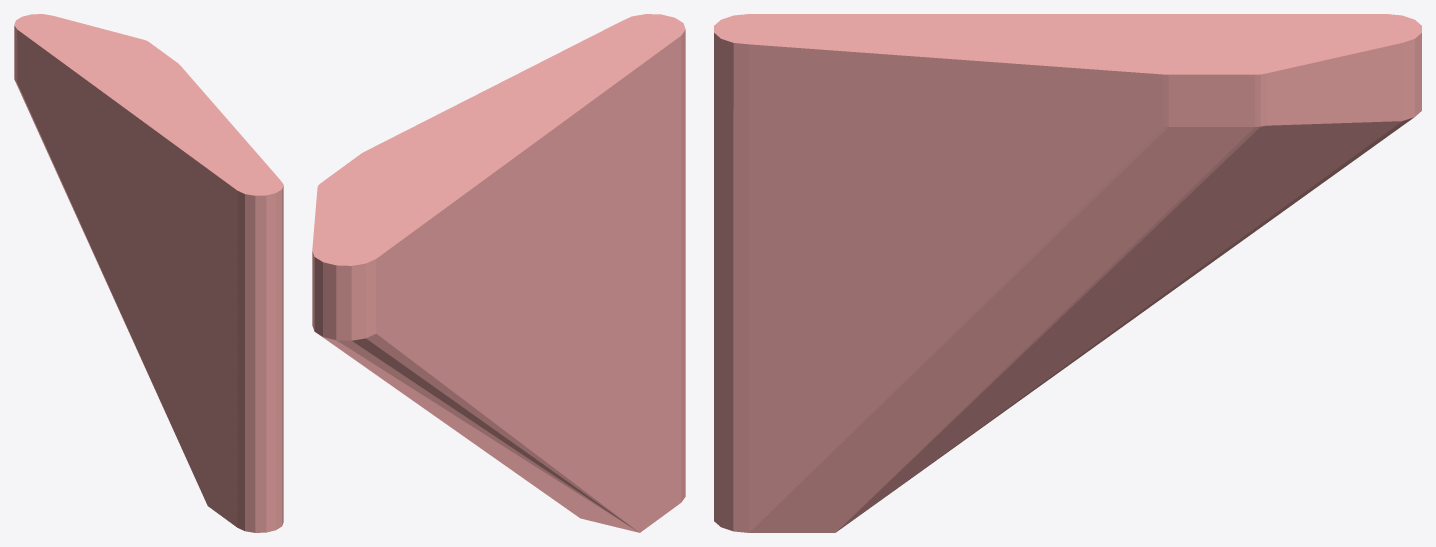
Rendered from rambler_Brazo3dyn_coll_1.dae.
3 views of the same model, side by side, from view 1: azimuth 30°, elevation 25°; view 2: azimuth 150°, elevation 25°; view 3: azimuth 270°, elevation 25° (orthographic). The views are drawn at different scales.
Parts seen in each view (by area): view 1: Node_0x7fe0fc4d5380; view 2: Node_0x7fe0fc4d5380; view 3: Node_0x7fe0fc4d5380.
Boxes of the visible parts, <box> form: Node_0x7fe0fc4d5380: <box>14,14,283,532</box>; Node_0x7fe0fc4d5380: <box>312,14,685,532</box>; Node_0x7fe0fc4d5380: <box>714,14,1421,532</box>.
Size of the model in its own units: 0.1 by 0.3747 by 0.492.
